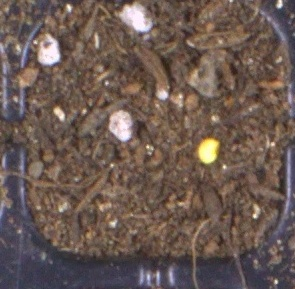chilli seed: (197, 138, 220, 164)
